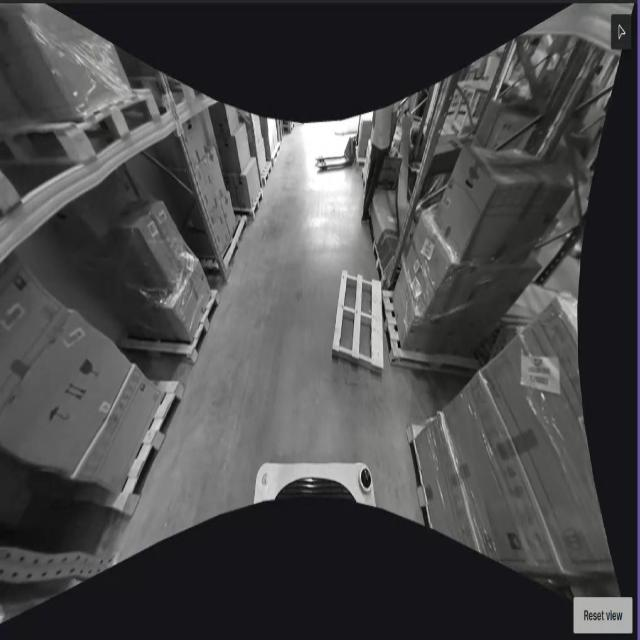Pallets-and-forklifts: (43, 381, 186, 526), (54, 89, 163, 170), (136, 291, 221, 367), (332, 271, 384, 377), (407, 425, 431, 524), (223, 217, 248, 273)
forlift: (317, 134, 357, 171)
